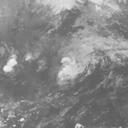cyclone: (56, 56, 85, 86)
